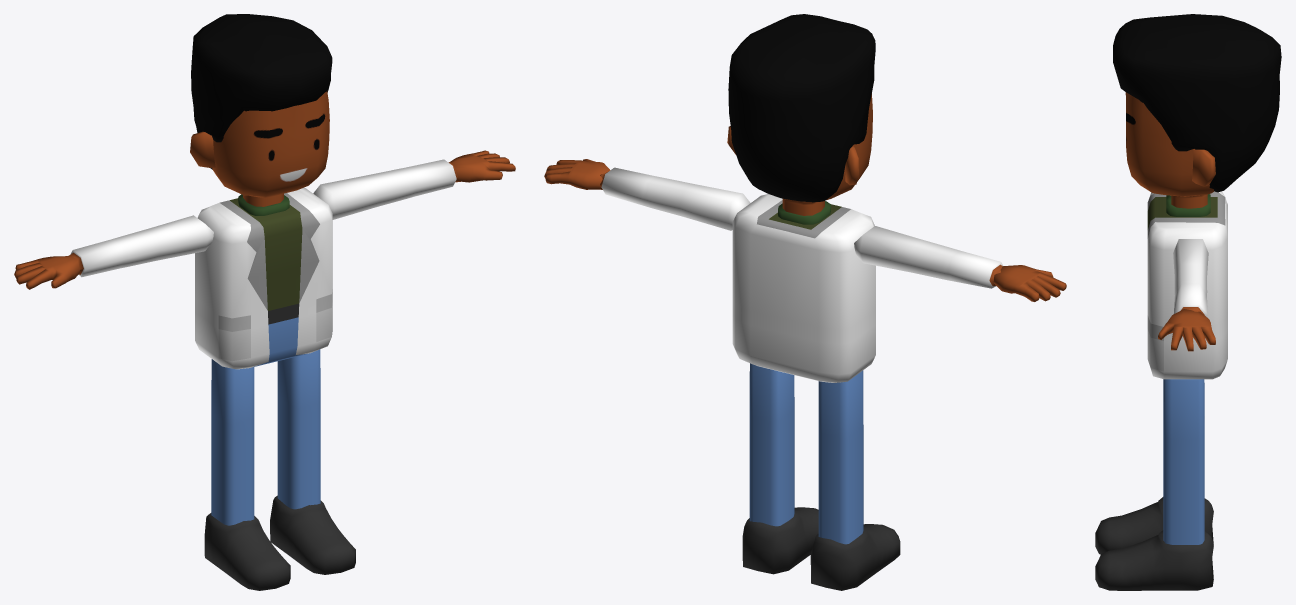
The model's file is NPC_Yellow01_BlackHair06.gltf.
3 views of the same model, side by side, from view 1: azimuth 30°, elevation 25°; view 2: azimuth 150°, elevation 25°; view 3: azimuth 270°, elevation 25° (orthographic). The views are drawn at different scales.
Parts seen in each view (by area): view 1: NPC_Corpo_Yellow1_BlackHair.006; view 2: NPC_Corpo_Yellow1_BlackHair.006; view 3: NPC_Corpo_Yellow1_BlackHair.006.
Boxes of the visible parts, x1,y1,x2,y2 form: NPC_Corpo_Yellow1_BlackHair.006: (14,14,515,590); NPC_Corpo_Yellow1_BlackHair.006: (544,14,1066,590); NPC_Corpo_Yellow1_BlackHair.006: (1095,14,1281,590).
Size of the model in its own units: 2.31 by 2.31 by 0.7282.
1 material, 1 textured.
